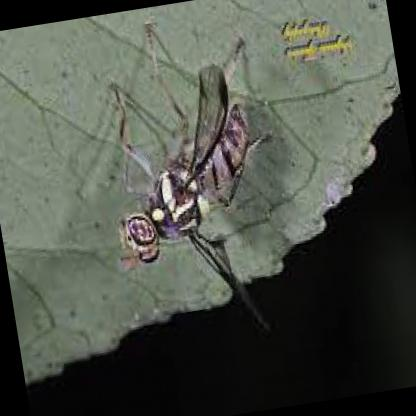fruit fly: (119, 71, 268, 300)
